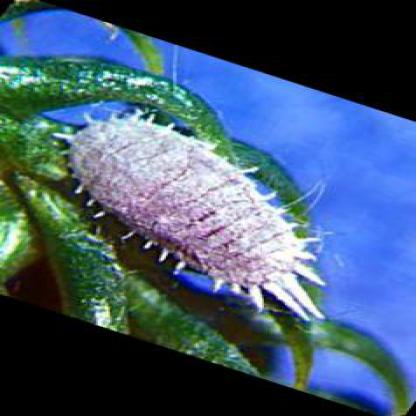mealy bug: (58, 117, 318, 320)
